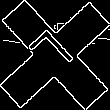L_SE: (27, 26, 83, 84)
